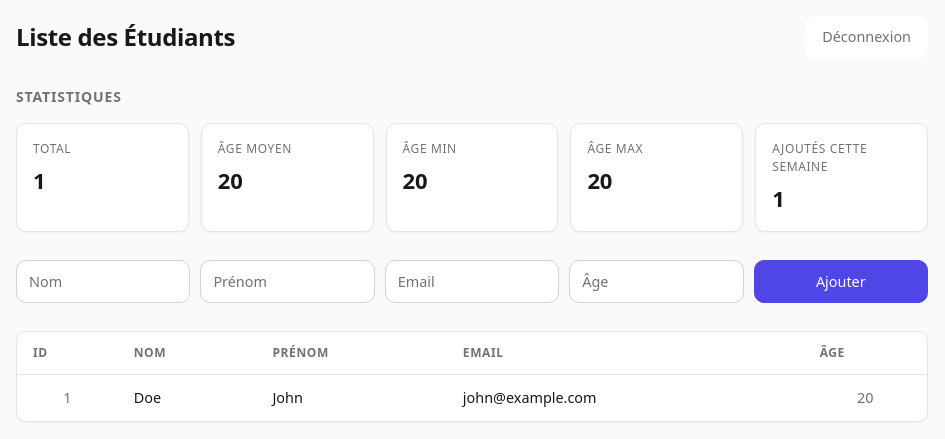
Test: Students › logs out and returns to the login page
The image size is (945, 439).
What coordinates should you click on to do the following:
click the button "Déconnexion"
I would click on:
 (867, 37)
Its box is [805,16,928,58].
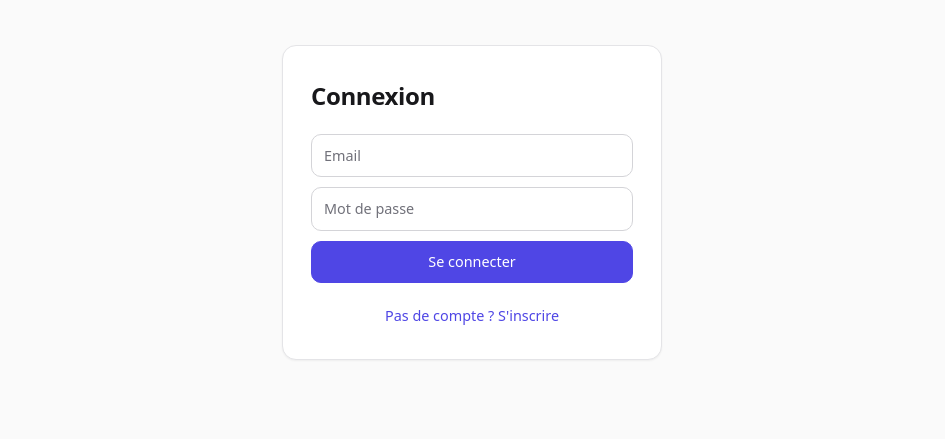
Now the heading "Connexion" is shown, box [311,79,435,112]
